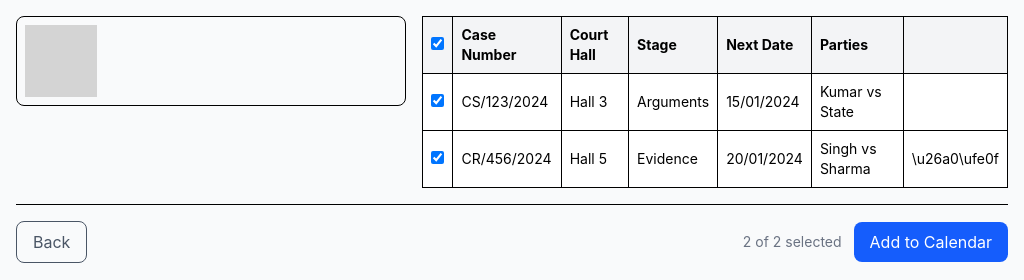
Scenario: ReviewStep › Deselect All deselects all rows
Click the checkbox named "Select all" at (438, 44), box [431,37,444,50]
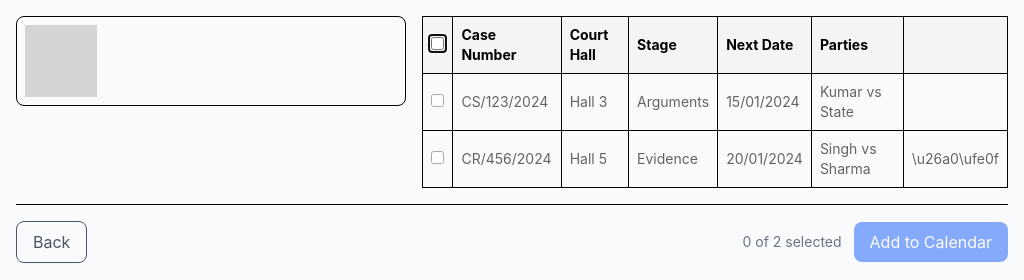
Now the checkbox named "Select all" is not checked, box [431,37,444,50]
Now the checkbox named "Select CS/123/2024" is not checked, box [431,94,444,107]
Now the checkbox named "Select CR/456/2024" is not checked, box [431,151,444,164]
